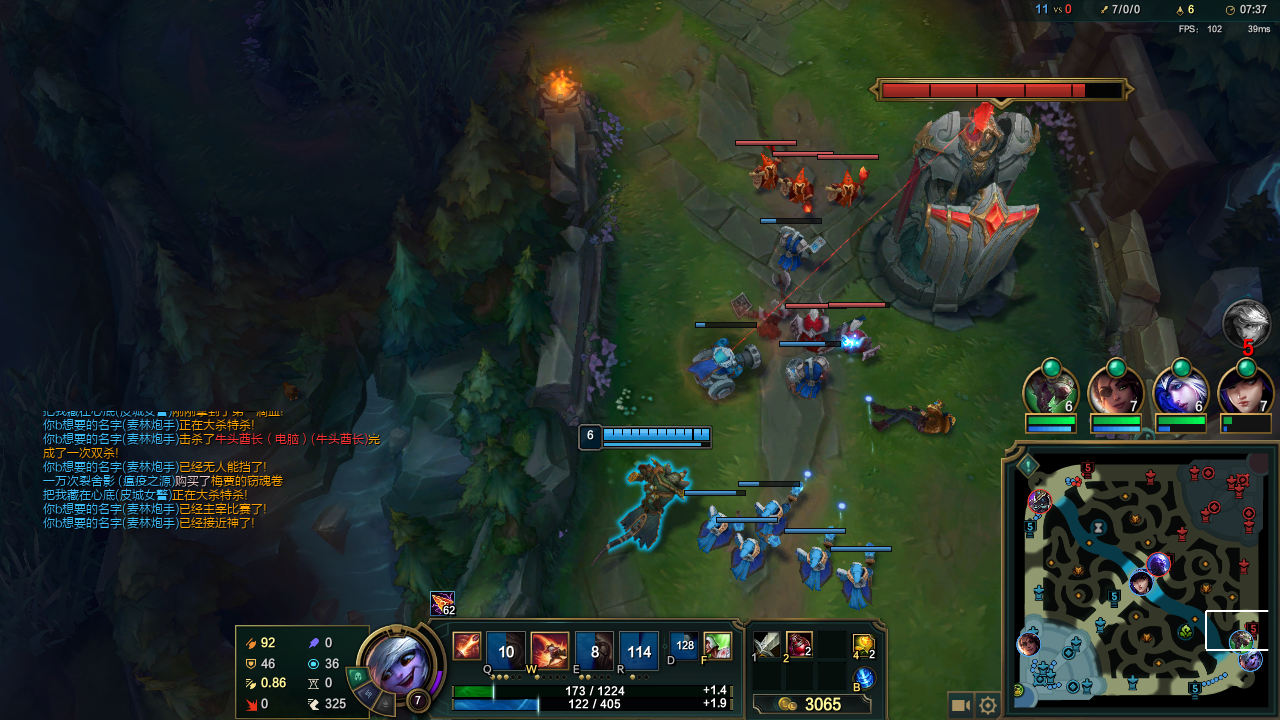DFFYT: (882, 101, 1052, 324)
DFXB: (827, 314, 888, 368), (778, 162, 831, 217), (821, 162, 877, 212), (788, 309, 841, 360), (738, 149, 788, 196)
WFXB: (688, 340, 764, 403), (836, 550, 881, 613), (789, 537, 835, 595), (766, 226, 825, 270), (726, 527, 775, 579), (778, 351, 832, 398), (745, 490, 799, 530), (697, 506, 733, 549)
Yita: (1187, 674, 1202, 699)
